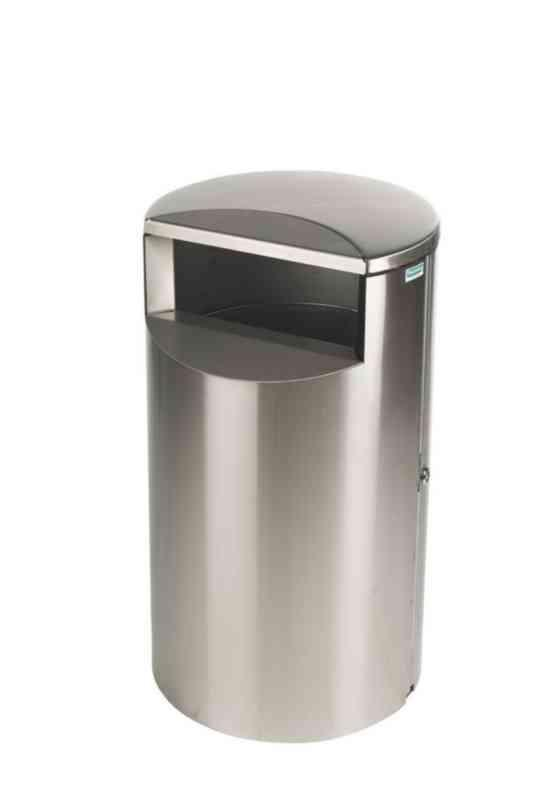trash bin: (130, 163, 449, 754)
